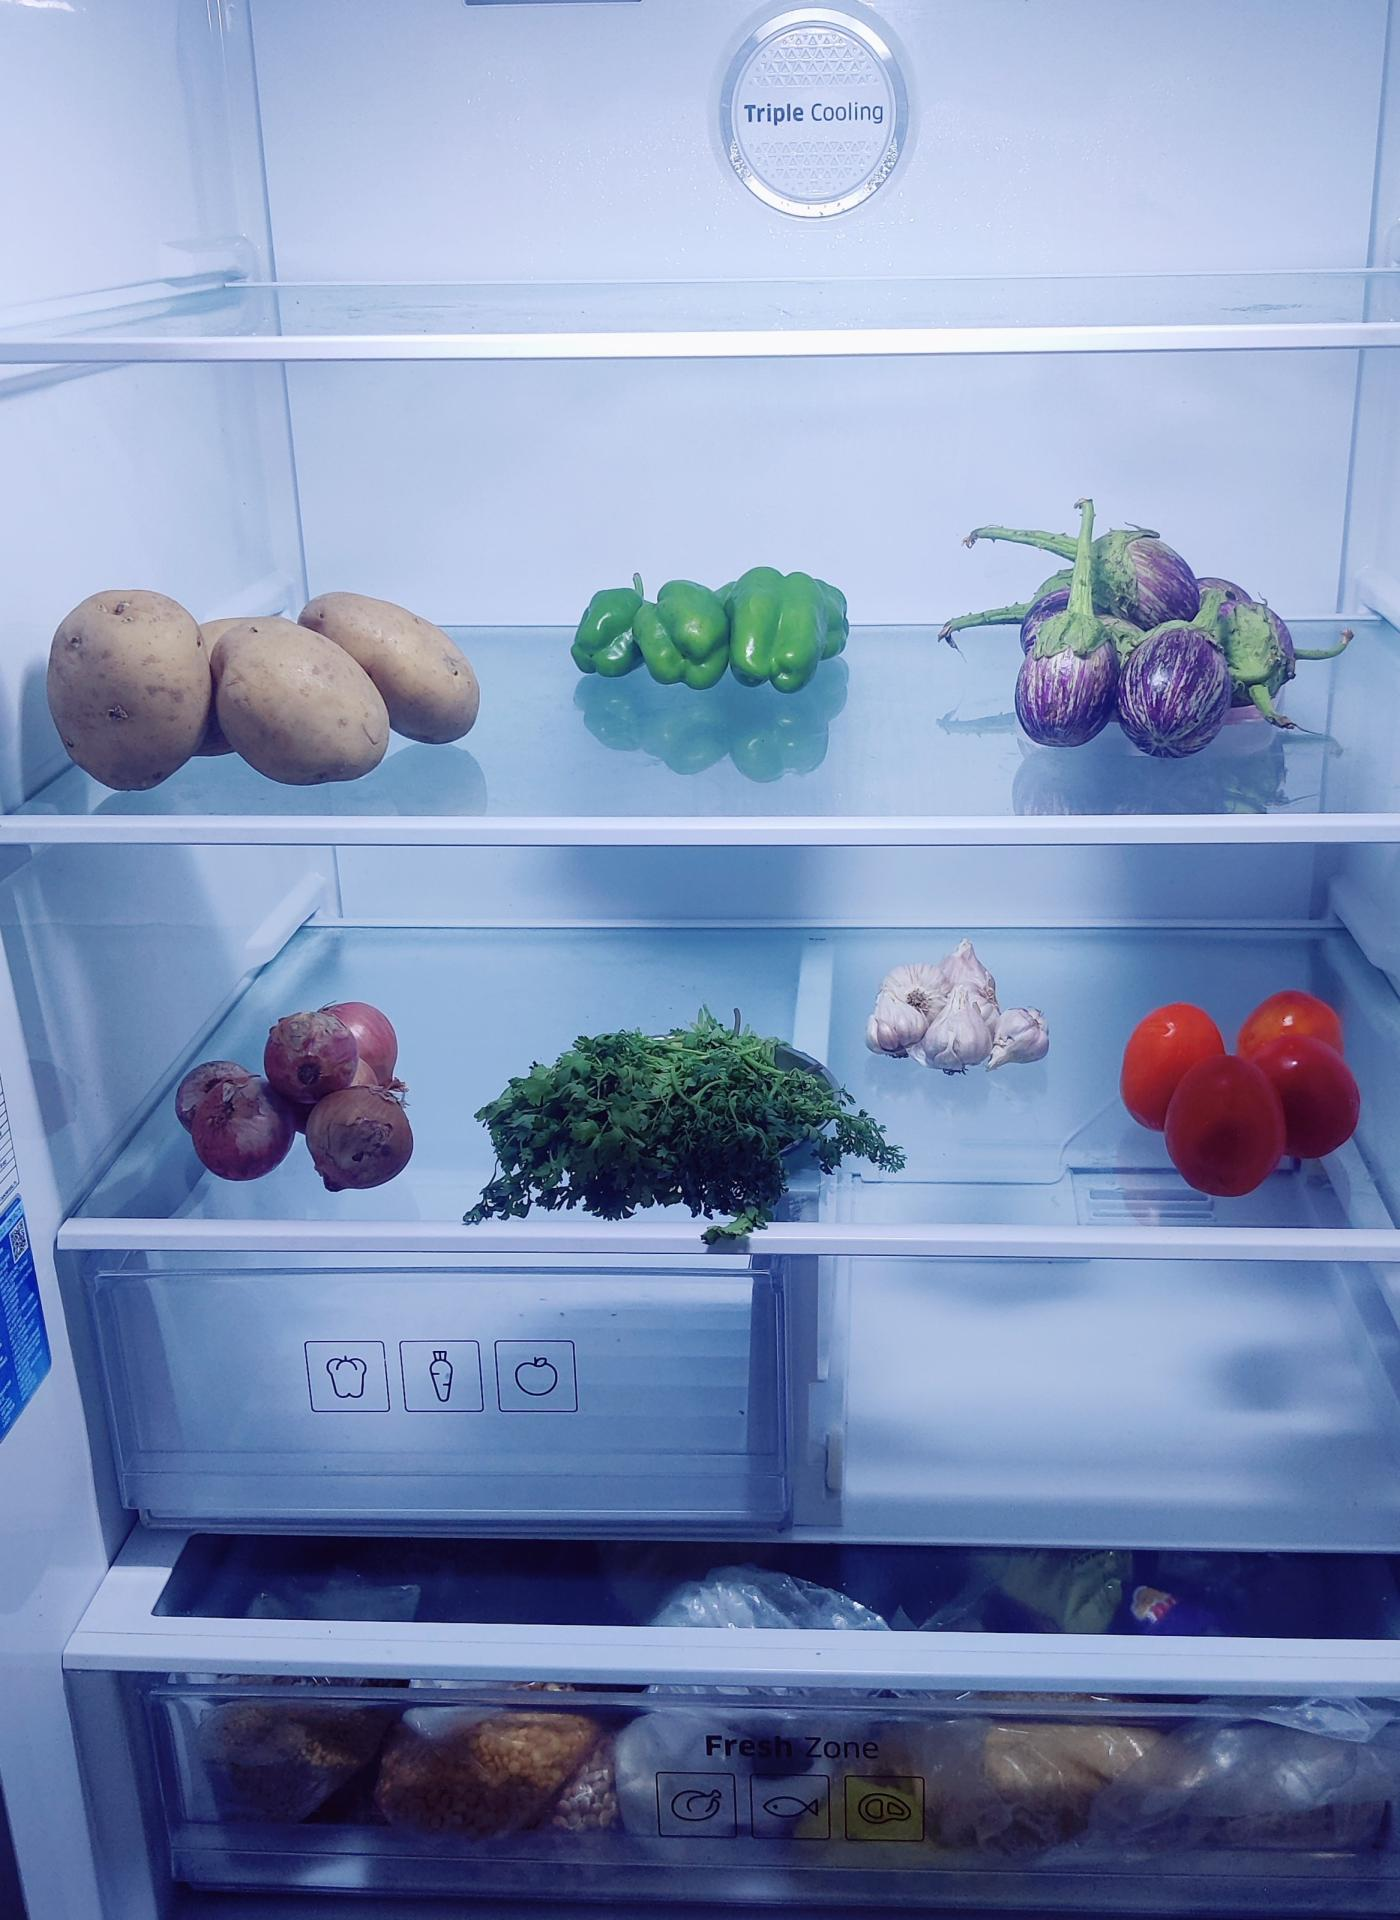brinjal: (956, 495, 1308, 763)
capsicum: (568, 565, 850, 692)
coriander: (474, 1014, 878, 1210)
garlic: (872, 947, 1054, 1081)
onion: (164, 976, 425, 1185)
potato: (34, 575, 479, 786)
tomato: (1121, 990, 1364, 1197)
